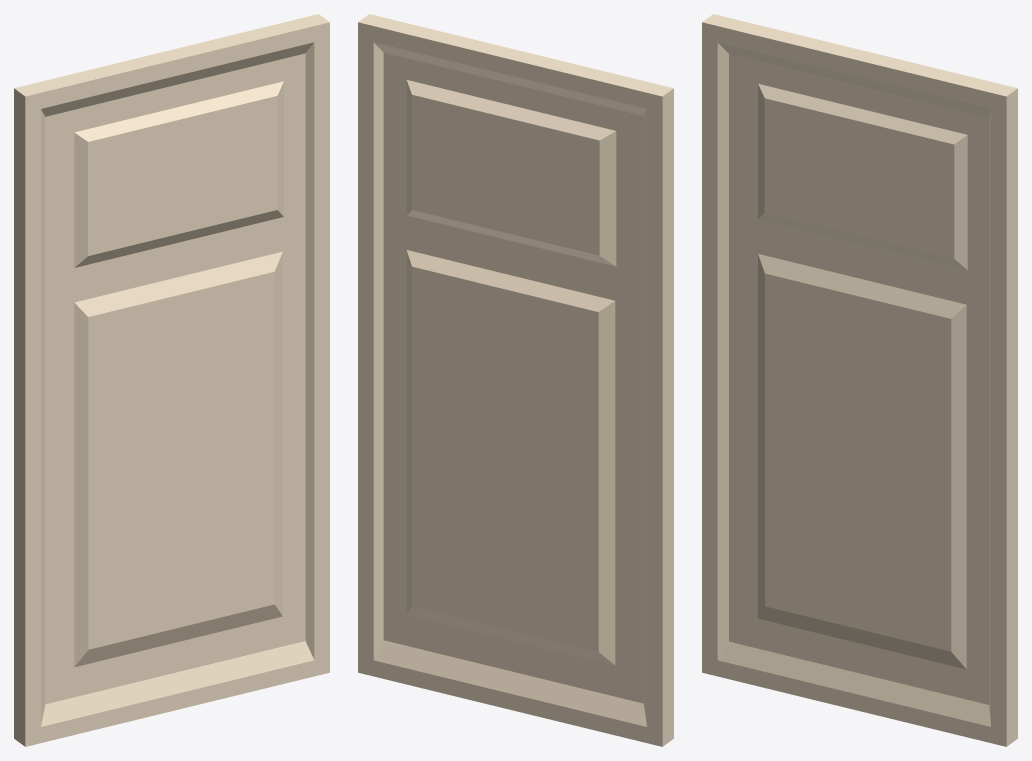
Rendered from Door.dae.
The picture shows the model from 3 angles, left to right: view 1: azimuth 30°, elevation 25°; view 2: azimuth 150°, elevation 25°; view 3: azimuth 330°, elevation 25°; orthographic projection.
Visible parts, largest first — view 1: Group_7 (×4); view 2: Group_7 (×4); view 3: Group_7 (×4).
Part boxes in pixels (left/top/right/bottom): Group_7 (×4): left=14, top=14, right=329, bottom=746; Group_7 (×4): left=358, top=14, right=673, bottom=746; Group_7 (×4): left=702, top=14, right=1017, bottom=746.
Bounding box in the file's own units: 59.92 × 3.86 × 122.
